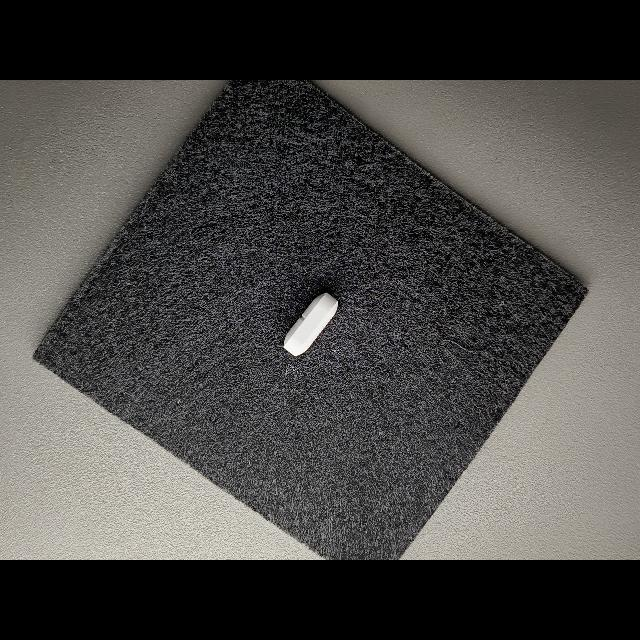Intact Pill: (283, 292, 338, 357)
